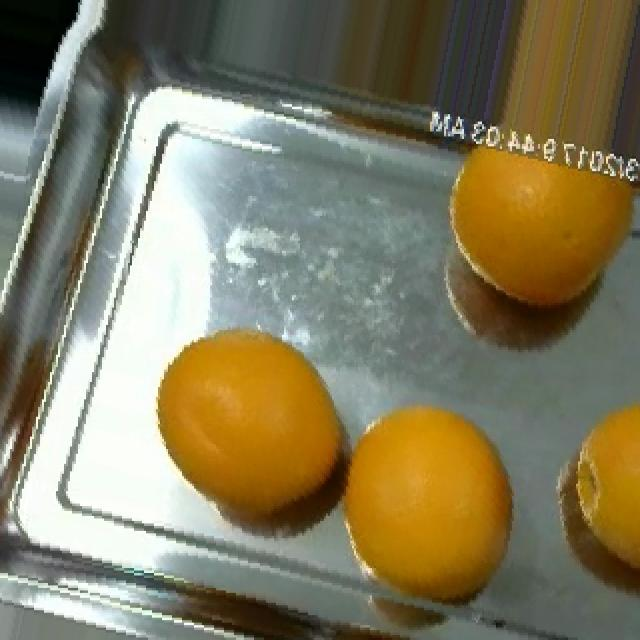Fruit: (432, 129, 614, 325), (552, 384, 640, 576)
